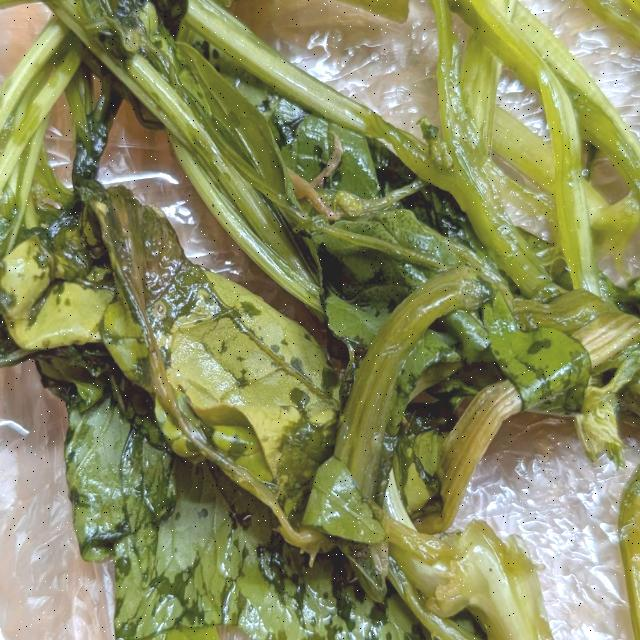rotten spinach: (4, 2, 638, 628), (320, 52, 588, 512), (22, 162, 250, 492), (84, 412, 414, 628)
